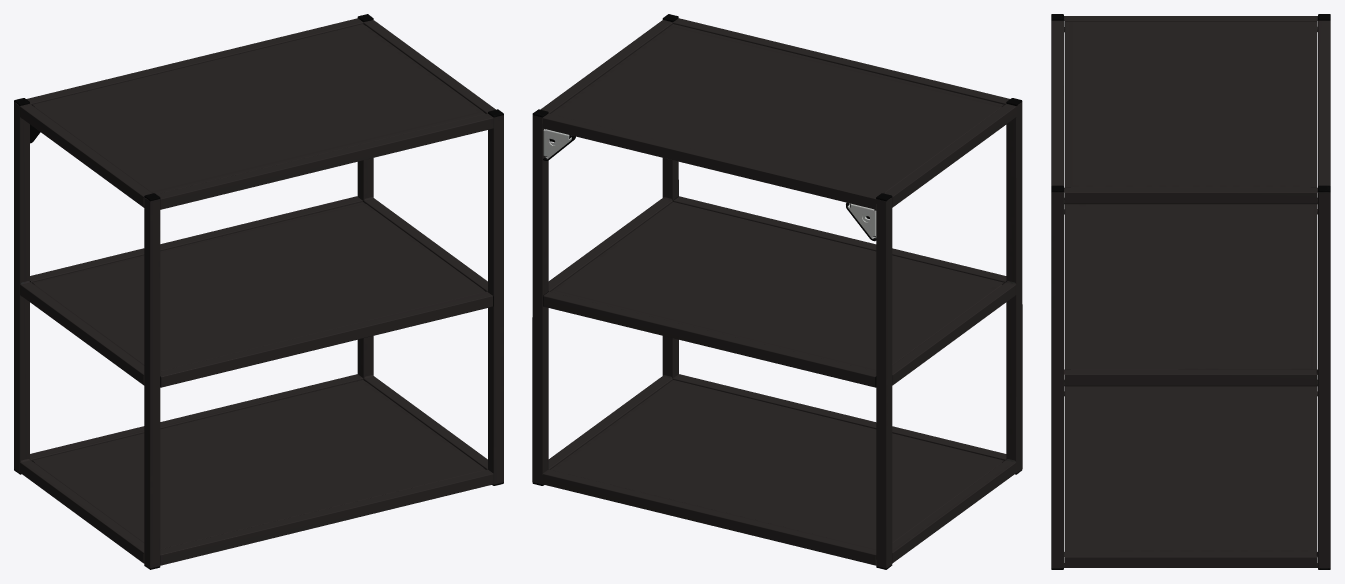
Rendered from enhet_szafka_stojaca_z_pokami_60448974.glb.
3 renders of one model, left to right at view 1: azimuth 30°, elevation 25°; view 2: azimuth 150°, elevation 25°; view 3: azimuth 270°, elevation 25°, orthographic. The views are drawn at different scales.
Parts seen in each view (by area): view 1: enhet_szafka_stojaca_z_pokami_60448974; view 2: enhet_szafka_stojaca_z_pokami_60448974; view 3: enhet_szafka_stojaca_z_pokami_60448974.
Part boxes in pixels (box(x1,y1,x2,y2)): enhet_szafka_stojaca_z_pokami_60448974: box(14, 14, 503, 569); enhet_szafka_stojaca_z_pokami_60448974: box(532, 14, 1022, 569); enhet_szafka_stojaca_z_pokami_60448974: box(1051, 14, 1330, 569).
Size of the model in its own units: 0.6 by 0.6 by 0.4.
1 material, 1 textured.
